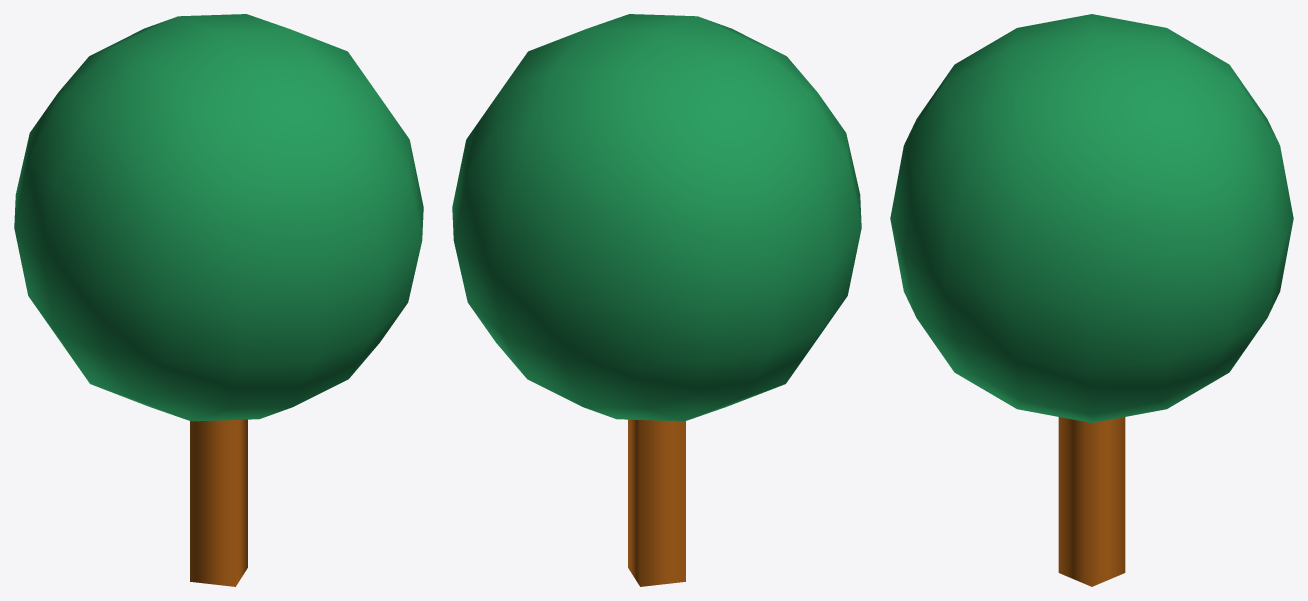
The model's file is Tree_V2.fbx.
The picture shows the model from 3 angles, left to right: view 1: azimuth 30°, elevation 25°; view 2: azimuth 150°, elevation 25°; view 3: azimuth 270°, elevation 25°; orthographic projection.
Parts seen in each view (by area): view 1: Tree_v2; view 2: Tree_v2; view 3: Tree_v2.
Boxes of the visible parts, x1=… form: Tree_v2: x1=14, y1=14, x2=423, y2=586; Tree_v2: x1=452, y1=14, x2=861, y2=586; Tree_v2: x1=890, y1=14, x2=1293, y2=586.
Bounding box in the file's own units: 83.97 × 123 × 83.97.
